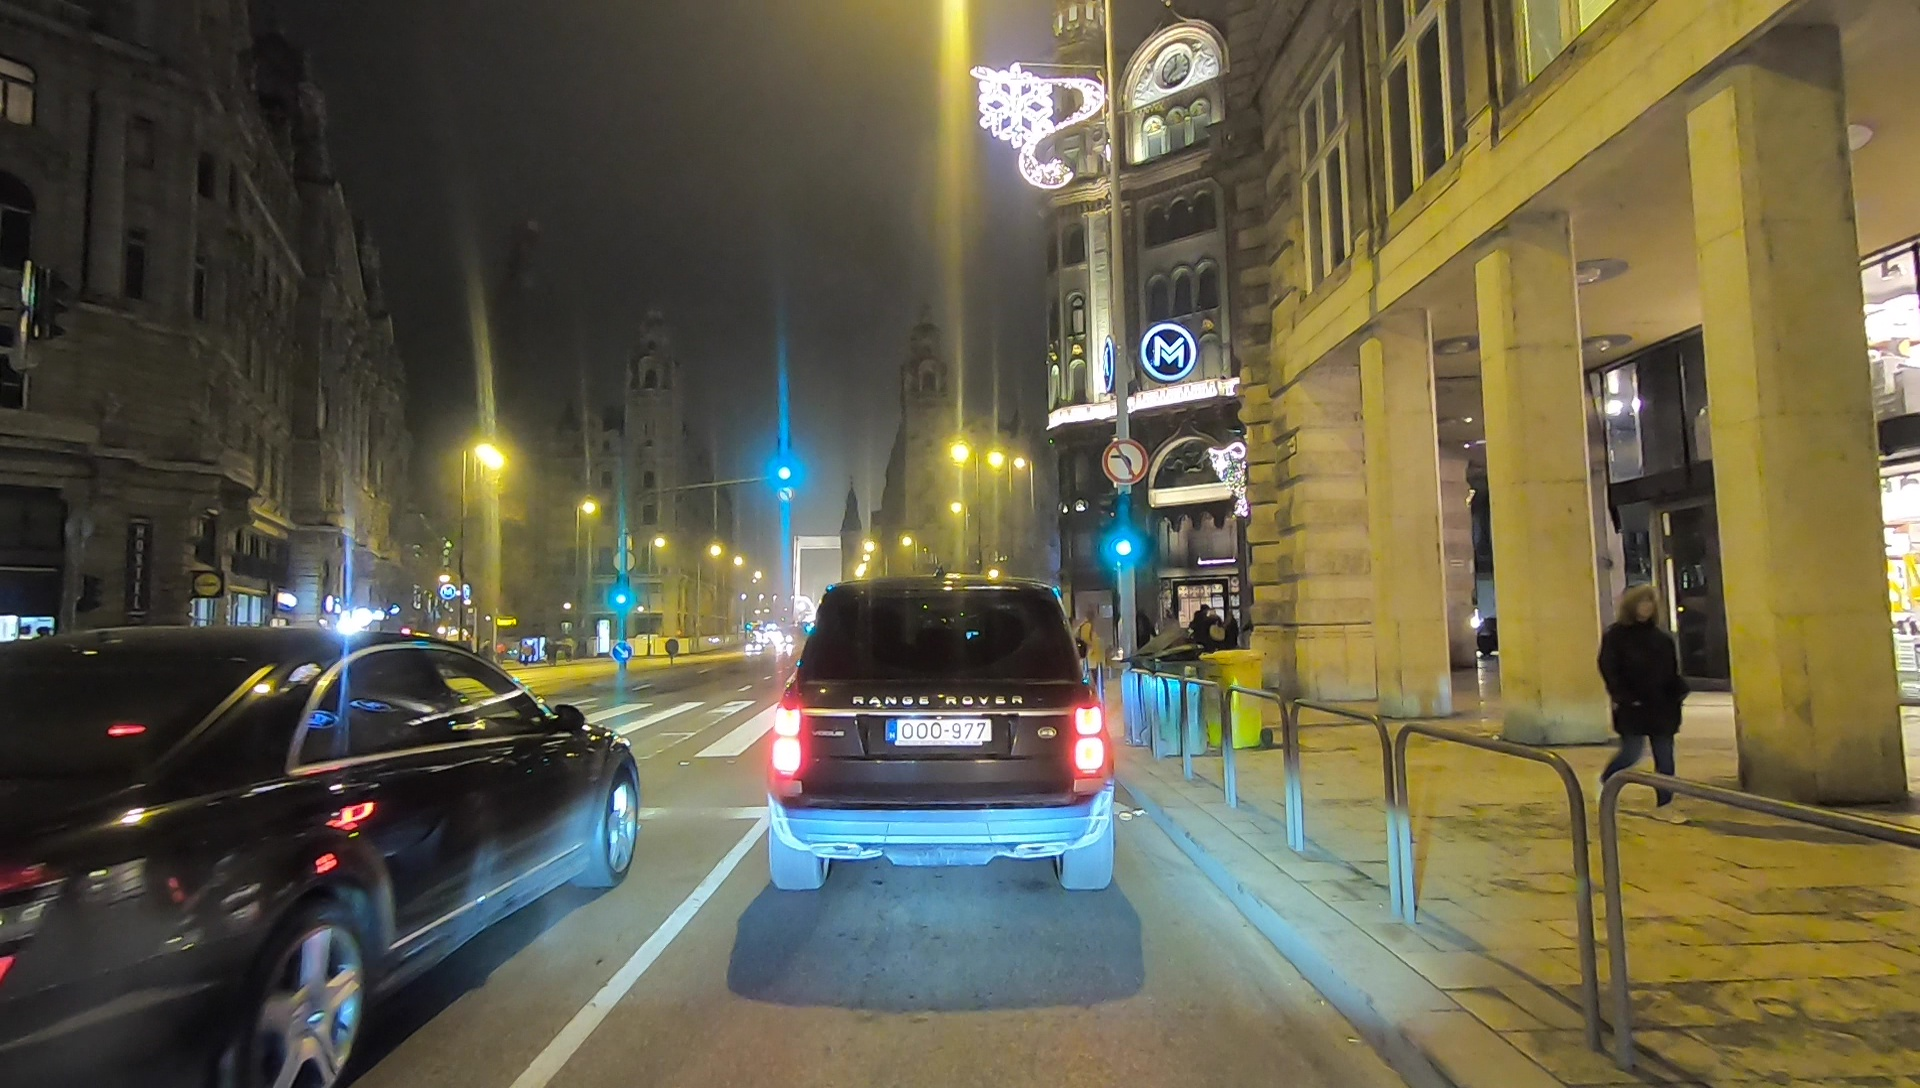person: (1597, 580, 1689, 823), (1075, 611, 1106, 694)
